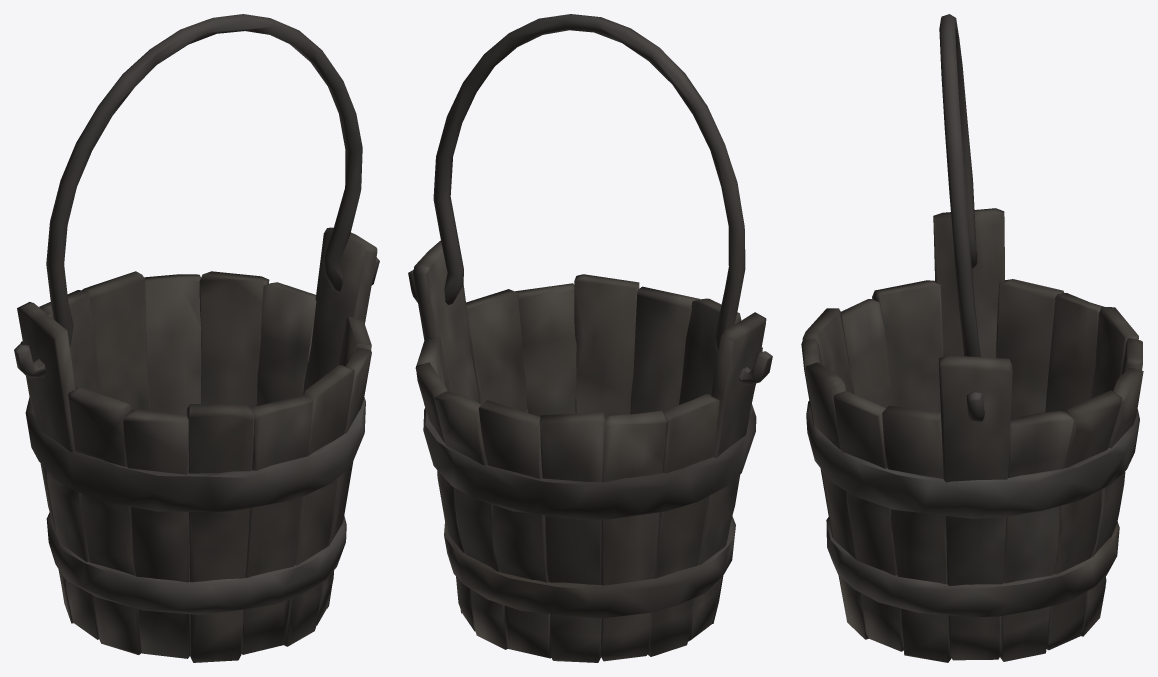
The model's file is Bucket_01.fbx.
3 renders of one model, left to right at view 1: azimuth 30°, elevation 25°; view 2: azimuth 150°, elevation 25°; view 3: azimuth 270°, elevation 25°, orthographic. The views are drawn at different scales.
Visible parts, largest first — view 1: Bucket_01, Bucket_01_Iron; view 2: Bucket_01, Bucket_01_Iron; view 3: Bucket_01, Bucket_01_Iron.
Part boxes in pixels (x1,y1,x2,y2): Bucket_01: (17,227,377,662); Bucket_01_Iron: (14,14,379,614); Bucket_01: (413,240,766,662); Bucket_01_Iron: (408,14,772,618); Bucket_01: (801,208,1143,662); Bucket_01_Iron: (806,14,1139,616).
Size of what is drawn, in the model's own units: 55.9 by 87.36 by 46.27.
